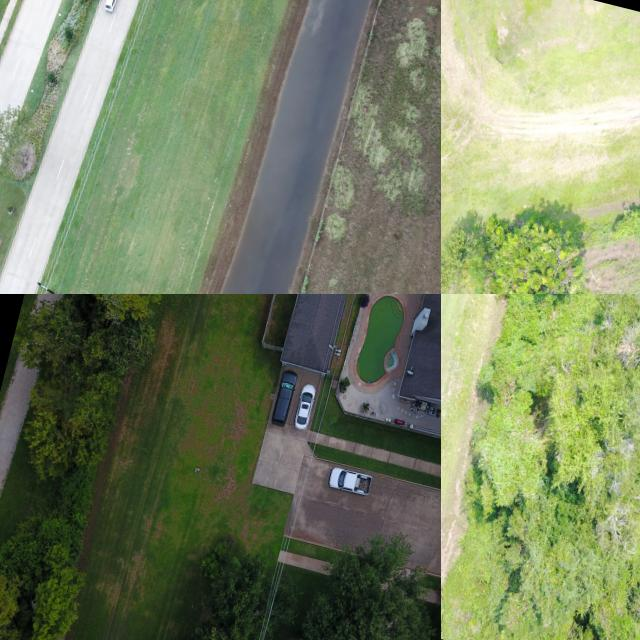fire: (220, 0, 370, 294), (0, 357, 35, 489)
